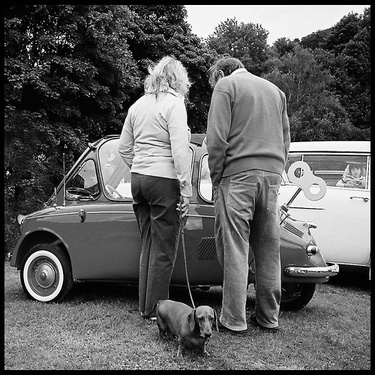car: (3, 129, 344, 320), (100, 118, 366, 292)
